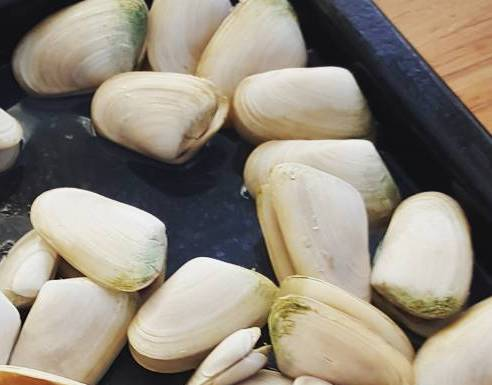tuatua: (254, 160, 375, 303), (126, 254, 277, 363), (268, 277, 413, 385), (29, 186, 169, 291), (91, 69, 228, 164), (375, 190, 470, 325), (240, 138, 400, 218), (12, 2, 147, 96), (12, 276, 133, 380), (232, 64, 375, 142), (193, 1, 308, 72), (147, 1, 212, 73), (192, 327, 265, 384), (1, 226, 52, 298)
